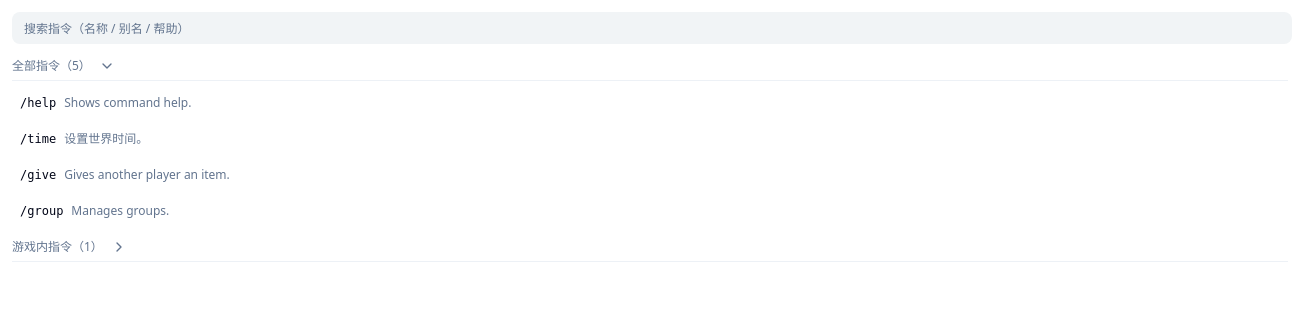
Test case: CommandPickerPanel（指令列表） › 「游戏内」指令排到最下并收进可折叠分组（默认收起）
Check: the text "Shows command help." is shown, box [64,94,191,111]
Check: the text "/item" is not shown
Click the button "游戏内指令（1）".
click(57, 246)  # box [12,233,1288,262]
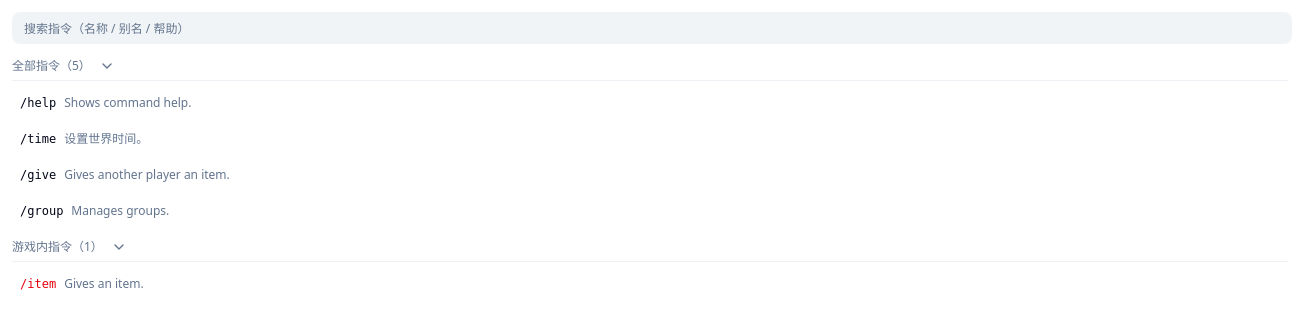
Check: the button "游戏内指令（1）" is expanded, box [12,233,1288,262]
Check: the text "/item" is shown, box [20,274,56,294]
